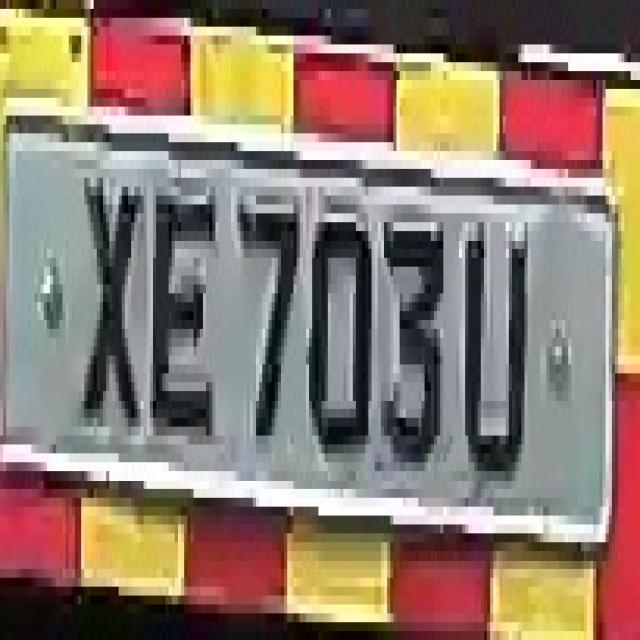0: (300, 178, 378, 516)
3: (374, 204, 446, 498)
7: (228, 151, 306, 489)
E: (147, 151, 215, 471)
U: (459, 196, 528, 462)
X: (81, 107, 144, 462)
